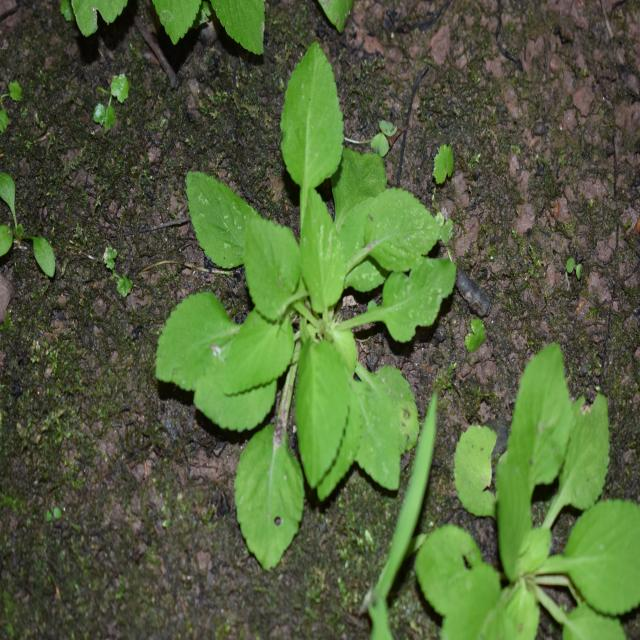Viola: (166, 68, 446, 517)
